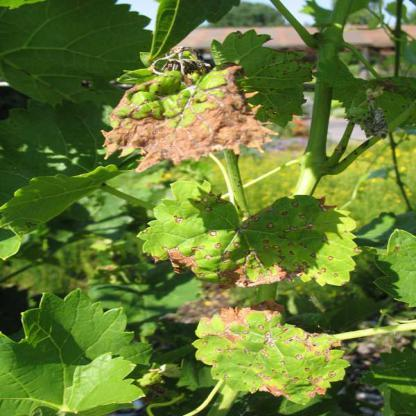grape leaf: (136, 172, 360, 290), (88, 62, 272, 176), (190, 300, 362, 404), (222, 31, 316, 126)
